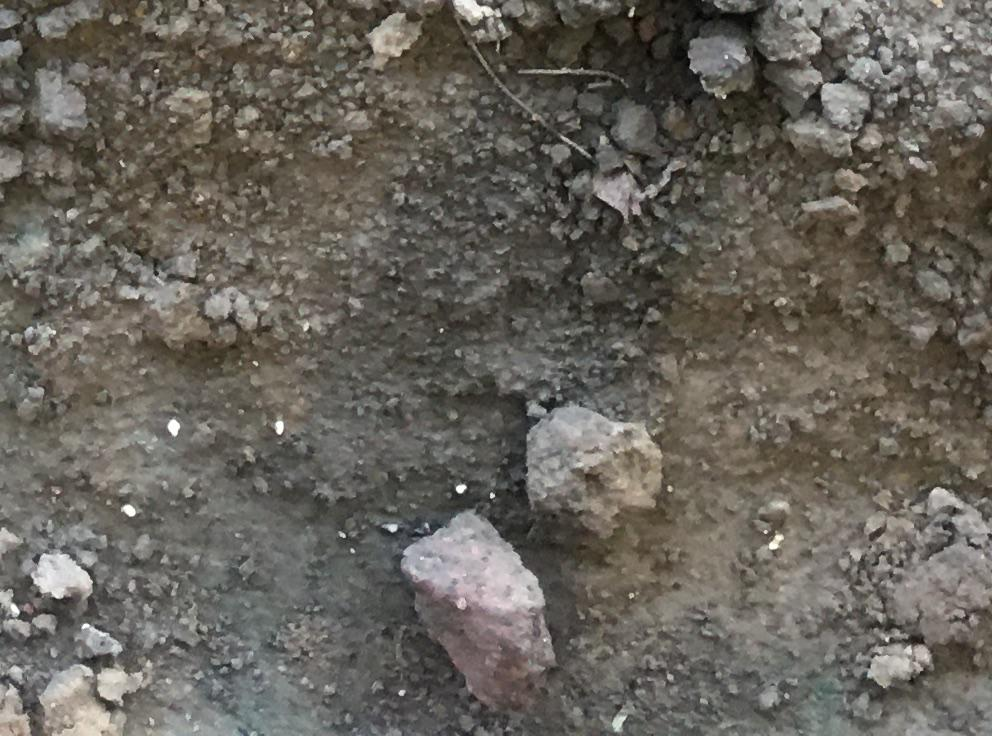block: (403, 508, 561, 715), (523, 400, 662, 542)
